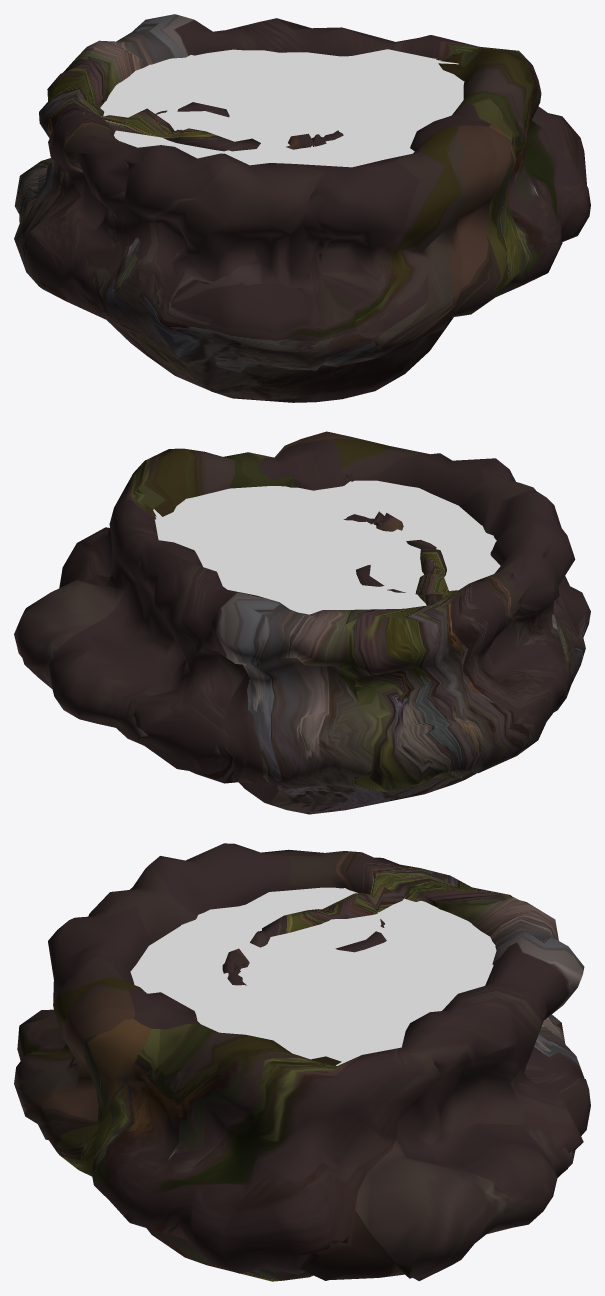
File: hotspring01.fbx
The picture shows the model from 3 angles, top to bottom: view 1: azimuth 30°, elevation 25°; view 2: azimuth 150°, elevation 25°; view 3: azimuth 270°, elevation 25°; orthographic projection. The views are drawn at different scales.
Parts seen in each view (by area): view 1: Group11240, Mesh; view 2: Group11240, Mesh; view 3: Group11240, Mesh.
Boxes of the visible parts, x1,y1,x2,y2 form: Group11240: [14, 14, 590, 402]; Mesh: [100, 49, 464, 167]; Group11240: [14, 431, 590, 814]; Mesh: [153, 480, 500, 614]; Group11240: [14, 843, 590, 1281]; Mesh: [130, 887, 496, 1065].
Bounding box in the file's own units: 535 × 290 × 473.
